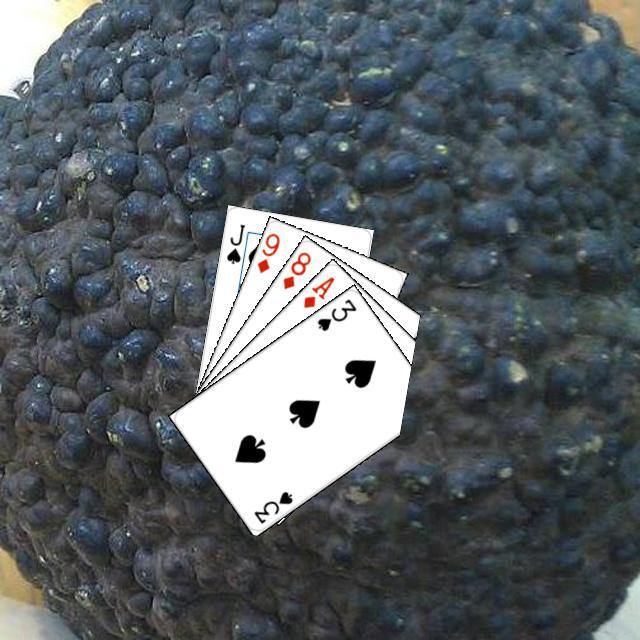3s: (312, 294, 358, 333), (249, 486, 295, 525)
8d: (278, 247, 313, 291)
9d: (252, 228, 282, 275)
Ad: (299, 271, 336, 310)
Js: (222, 219, 246, 265)
